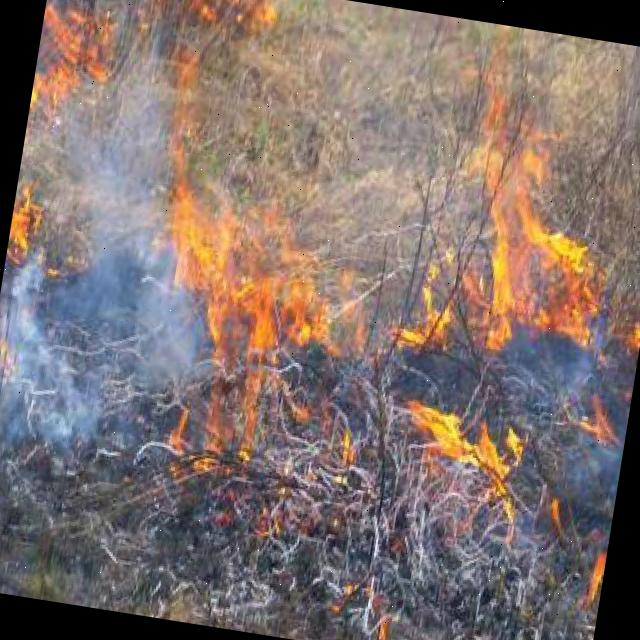fire: (0, 59, 250, 452), (440, 82, 628, 364), (197, 222, 343, 474), (140, 79, 257, 328), (397, 376, 543, 530)
